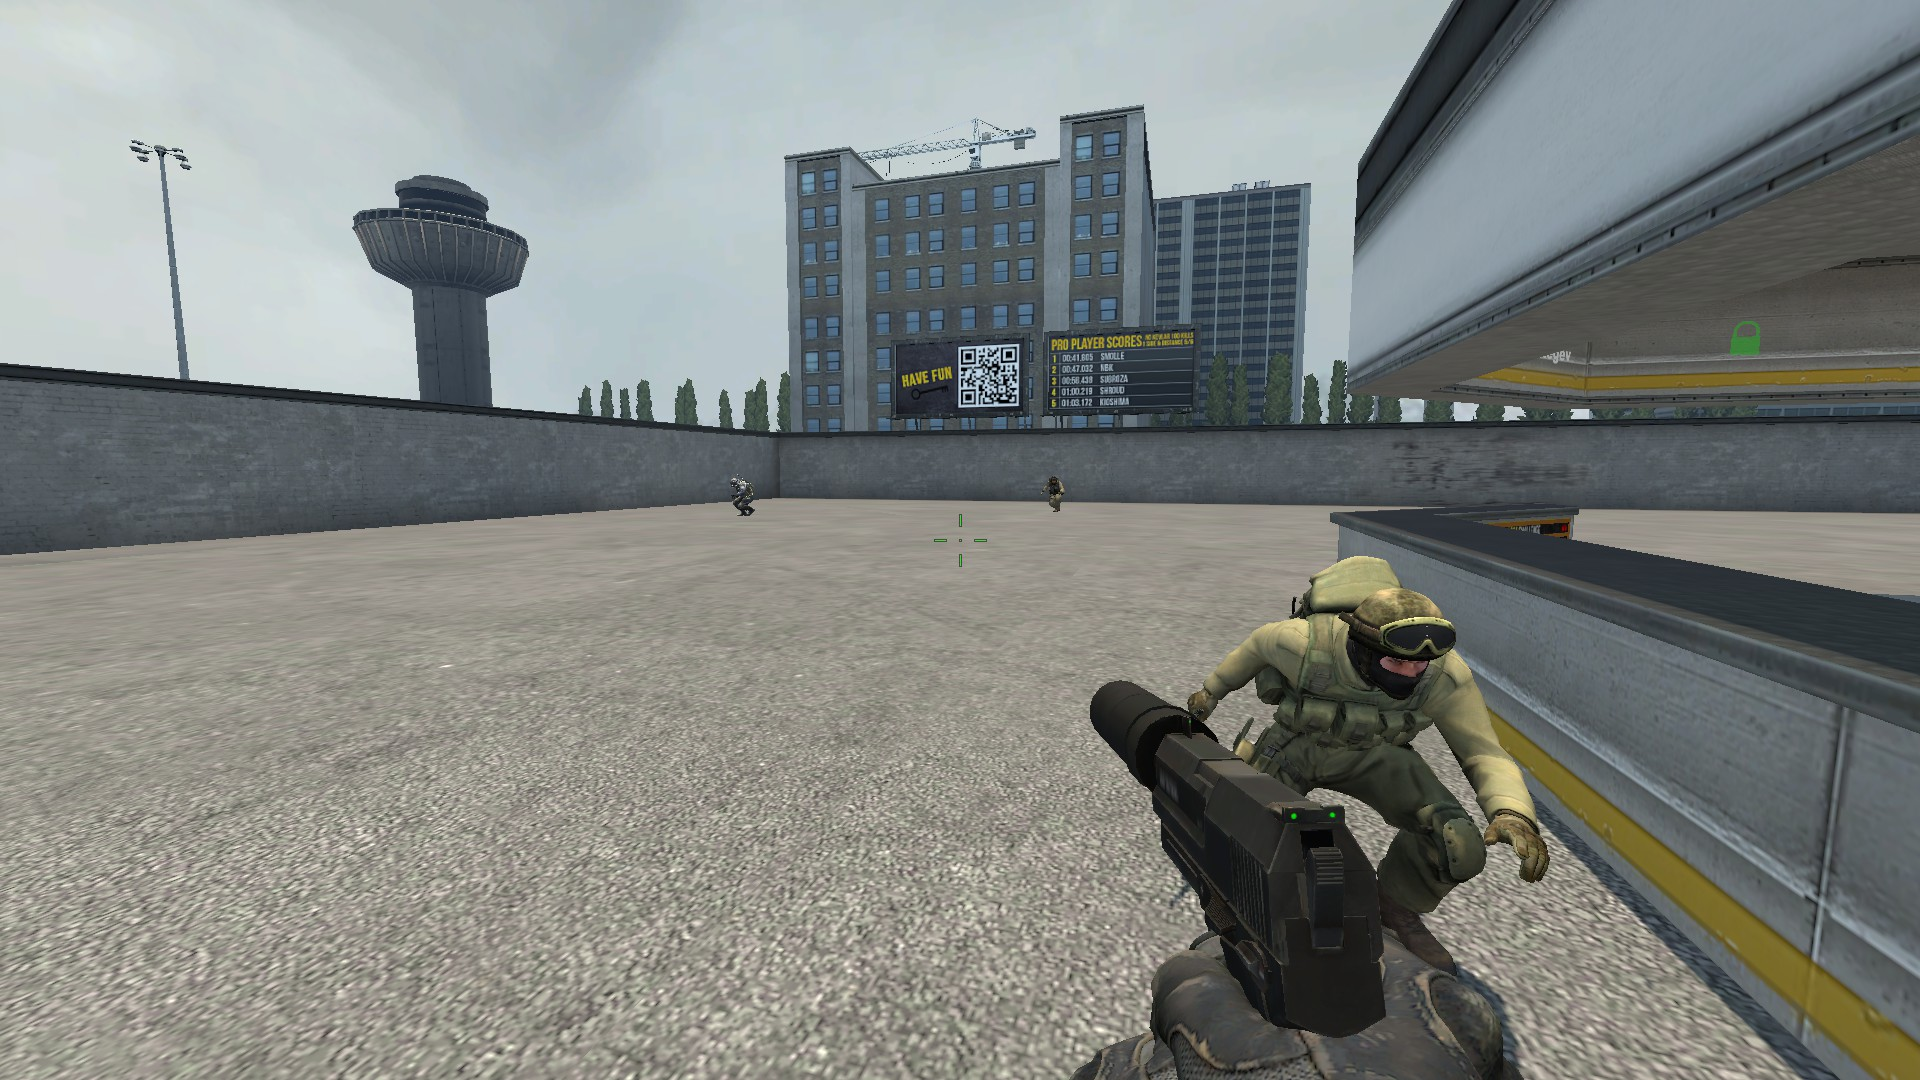ct: (1182, 553, 1553, 920)
ct head: (1342, 582, 1462, 707)
